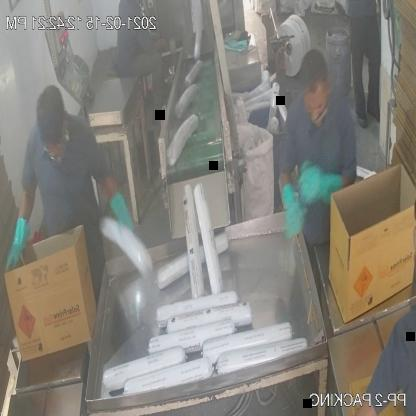glove: (2, 203, 33, 282), (300, 155, 340, 214), (105, 182, 137, 247), (280, 173, 310, 241)
no_glove: (141, 32, 174, 66)
